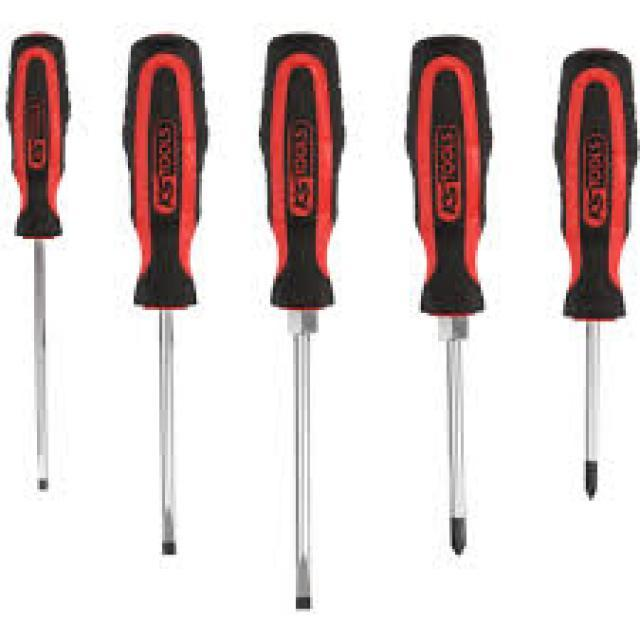screwdriver: (252, 25, 352, 618), (398, 21, 498, 562), (118, 27, 212, 559), (549, 36, 640, 504), (0, 27, 77, 499)
